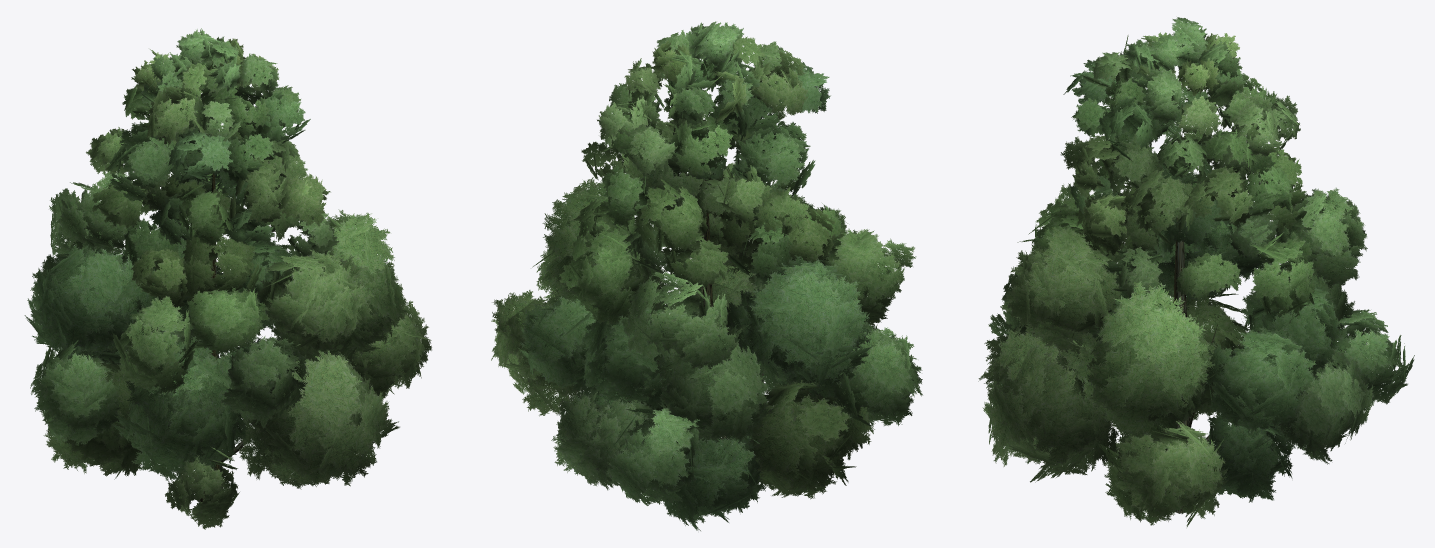
The model's file is mm6_deco_tree30.glb.
The picture shows the model from 3 angles, left to right: view 1: azimuth 30°, elevation 25°; view 2: azimuth 150°, elevation 25°; view 3: azimuth 270°, elevation 25°; orthographic projection. The views are drawn at different scales.
Parts seen in each view (by area): view 1: Tree; view 2: Tree; view 3: Tree.
Boxes of the visible parts, x1,y1,x2,y2 form: Tree: (24,28,431,529); Tree: (491,21,922,530); Tree: (978,17,1414,526).
Size of the model in its own units: 0.6342 by 0.6797 by 0.5674.
Materials: 2 (2 with a texture image).
